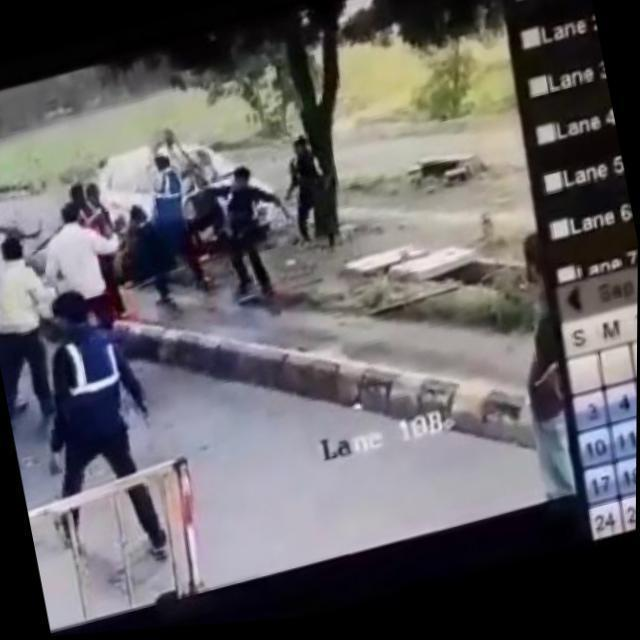fight: (105, 108, 232, 317)
